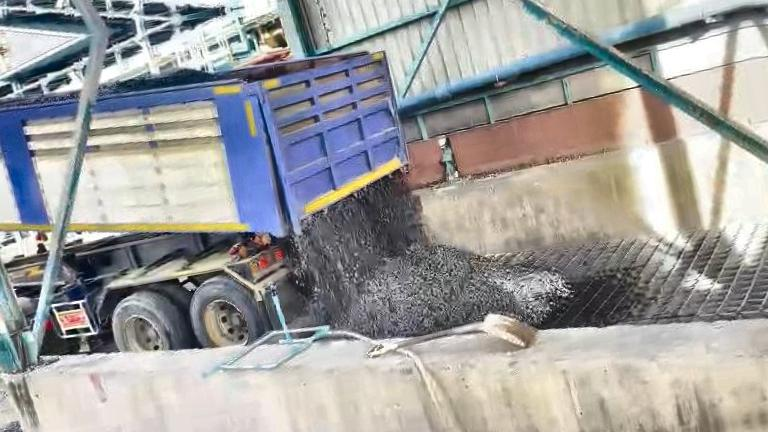gravel: (290, 176, 571, 337), (100, 67, 221, 96), (0, 423, 42, 432)
